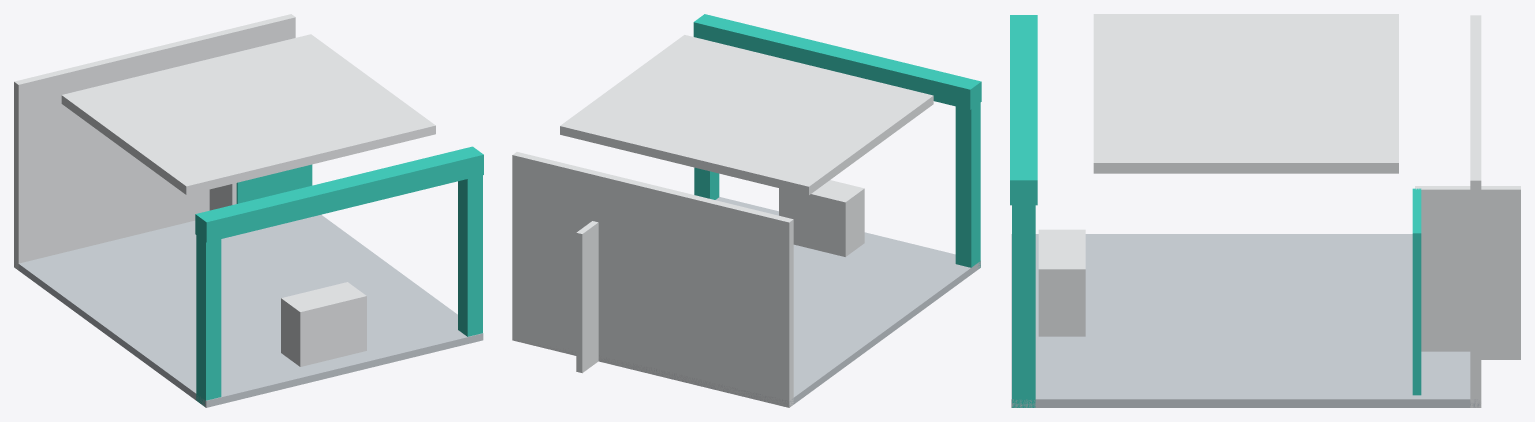
3 renders of one model, left to right at view 1: azimuth 30°, elevation 25°; view 2: azimuth 150°, elevation 25°; view 3: azimuth 270°, elevation 25°, orthographic. The views are drawn at different scales.
Parts seen in each view (by area): view 1: Exhibition Booth Concept; view 2: Exhibition Booth Concept; view 3: Exhibition Booth Concept.
Part boxes in pixels (x1,y1,x2,y2): Exhibition Booth Concept: [14, 14, 483, 407]; Exhibition Booth Concept: [512, 14, 981, 407]; Exhibition Booth Concept: [1010, 14, 1520, 407].
Bounding box in the file's own units: 5 × 3.34 × 6.52.
